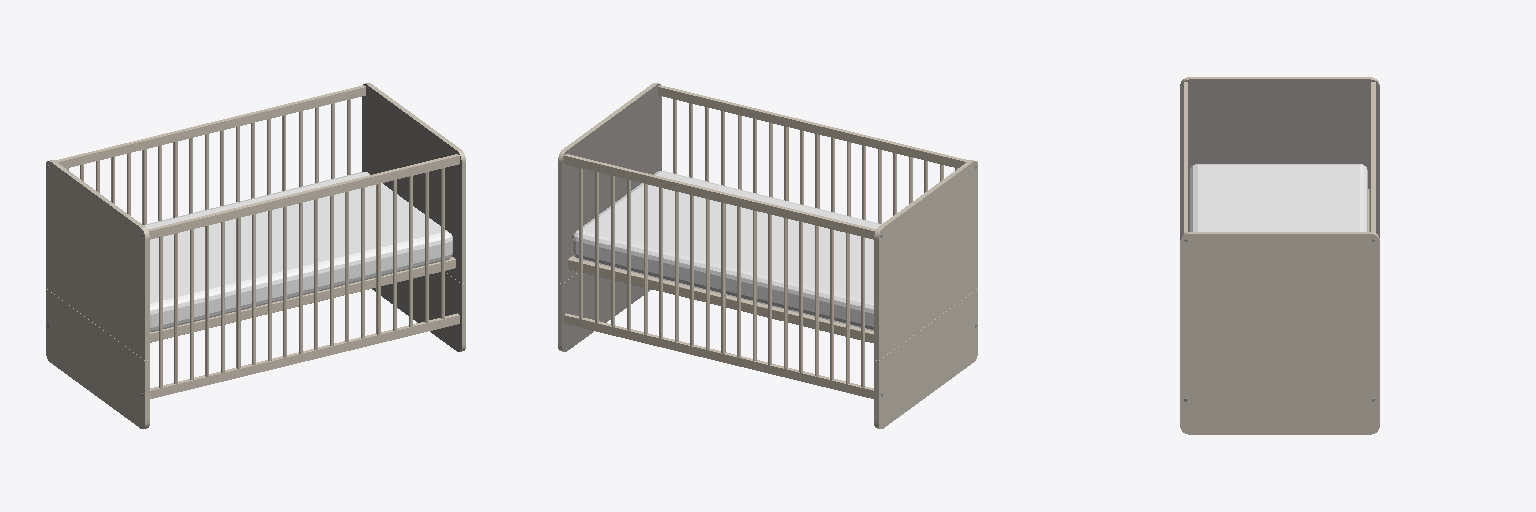
File: 2pir_lozeczko.obj
3 views of the same model, side by side, from view 1: azimuth 30°, elevation 25°; view 2: azimuth 150°, elevation 25°; view 3: azimuth 270°, elevation 25° (orthographic).
Parts seen in each view (by area): view 1: Rectangle058, ChamferBox001, Rectangle059, Box001, Box003, Box002, Box005, Cylinder312, Cylinder321, Cylinder270, Cylinder311, Cylinder322 (+14 smaller); view 2: Rectangle058, ChamferBox001, Rectangle059, Box003, Box001, Box004, Box005, Cylinder326, Cylinder343, Cylinder327, Cylinder328, Cylinder330 (+14 smaller); view 3: Rectangle059, Rectangle058, ChamferBox001, Box003, Box001.
Part boxes in pixels (bbox=[...]): Rectangle058: bbox=[46, 160, 149, 428]; ChamferBox001: bbox=[144, 172, 452, 331]; Rectangle059: bbox=[362, 83, 465, 351]; Box001: bbox=[148, 154, 459, 239]; Box003: bbox=[55, 85, 365, 168]; Box002: bbox=[150, 313, 459, 398]; Box005: bbox=[150, 257, 455, 342]; Cylinder312: bbox=[236, 218, 240, 368]; Cylinder321: bbox=[376, 184, 380, 334]; Cylinder270: bbox=[159, 237, 162, 387]; Cylinder311: bbox=[221, 222, 224, 372]; Cylinder322: bbox=[393, 180, 396, 330]; Rectangle058: bbox=[874, 160, 977, 428]; ChamferBox001: bbox=[572, 171, 881, 330]; Rectangle059: bbox=[558, 83, 661, 351]; Box003: bbox=[564, 154, 875, 239]; Box001: bbox=[658, 85, 968, 167]; Box004: bbox=[564, 313, 873, 398]; Box005: bbox=[568, 256, 873, 342]; Cylinder326: bbox=[721, 202, 725, 353]; Cylinder343: bbox=[595, 172, 598, 322]; Cylinder327: bbox=[861, 237, 864, 387]; Cylinder328: bbox=[846, 233, 849, 383]; Cylinder330: bbox=[815, 225, 818, 376]; Rectangle059: bbox=[1180, 232, 1379, 434]; Rectangle058: bbox=[1180, 77, 1379, 237]; ChamferBox001: bbox=[1189, 164, 1367, 231]; Box003: bbox=[1371, 82, 1375, 232]; Box001: bbox=[1184, 82, 1187, 232].
Size of the model in its own units: 143 by 85 by 76.5.